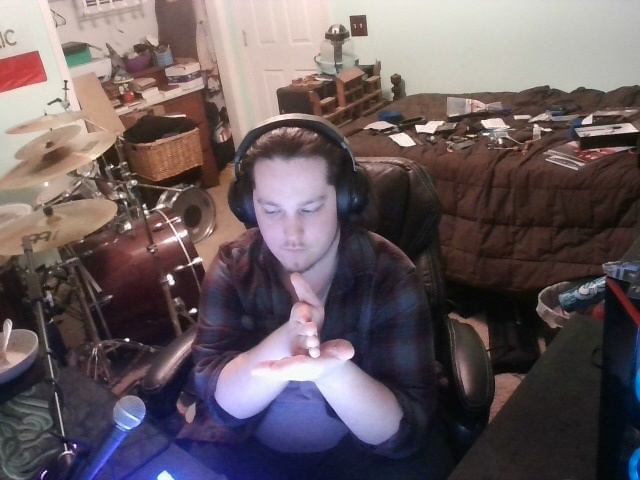stop: (234, 262, 374, 397)
